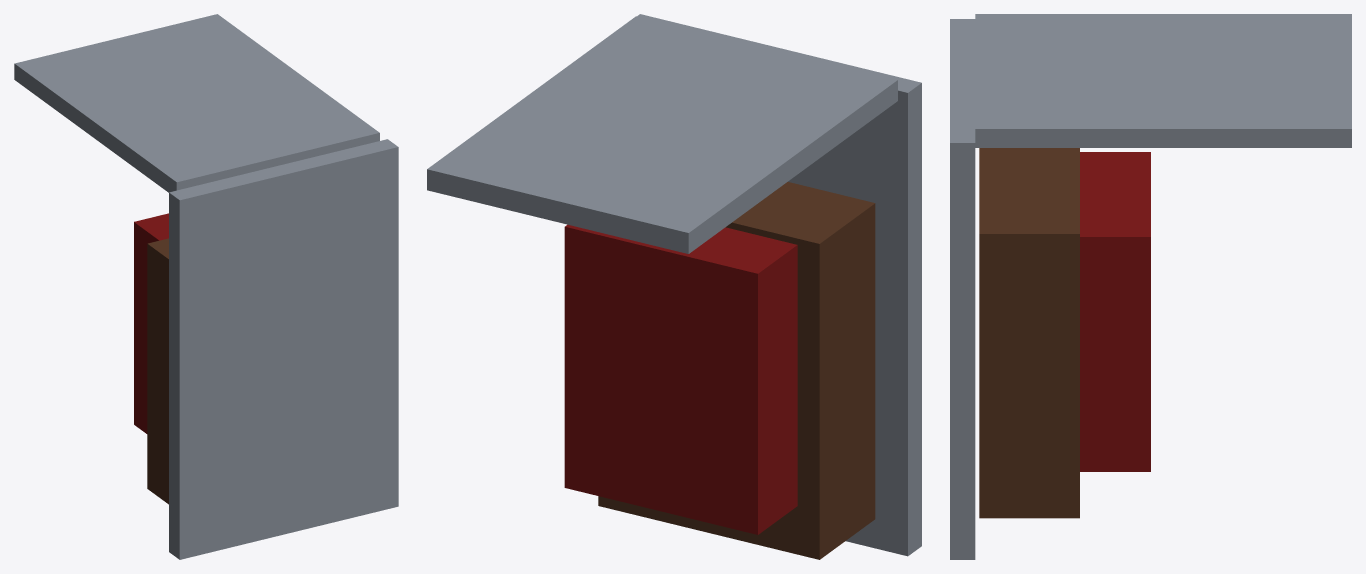
Rendered from luggage_trolley.obj.
3 renders of one model, left to right at view 1: azimuth 30°, elevation 25°; view 2: azimuth 150°, elevation 25°; view 3: azimuth 270°, elevation 25°, orthographic. The views are drawn at different scales.
Parts seen in each view (by area): view 1: Luggage_Trolley; view 2: Luggage_Trolley; view 3: Luggage_Trolley.
Part boxes in pixels (bbox=[...]): Luggage_Trolley: bbox=[14, 14, 398, 559]; Luggage_Trolley: bbox=[427, 14, 921, 559]; Luggage_Trolley: bbox=[950, 14, 1351, 559].
Bounding box in the file's own units: 0.7 × 1.12 × 0.96.
